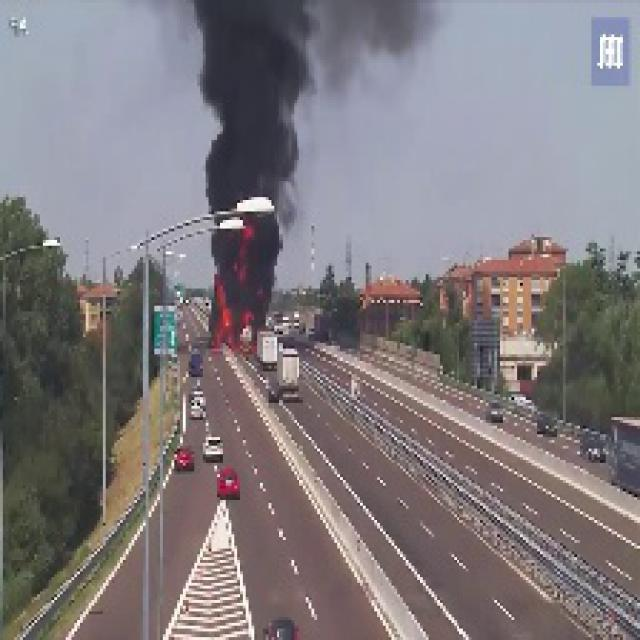fire: (208, 223, 266, 354)
